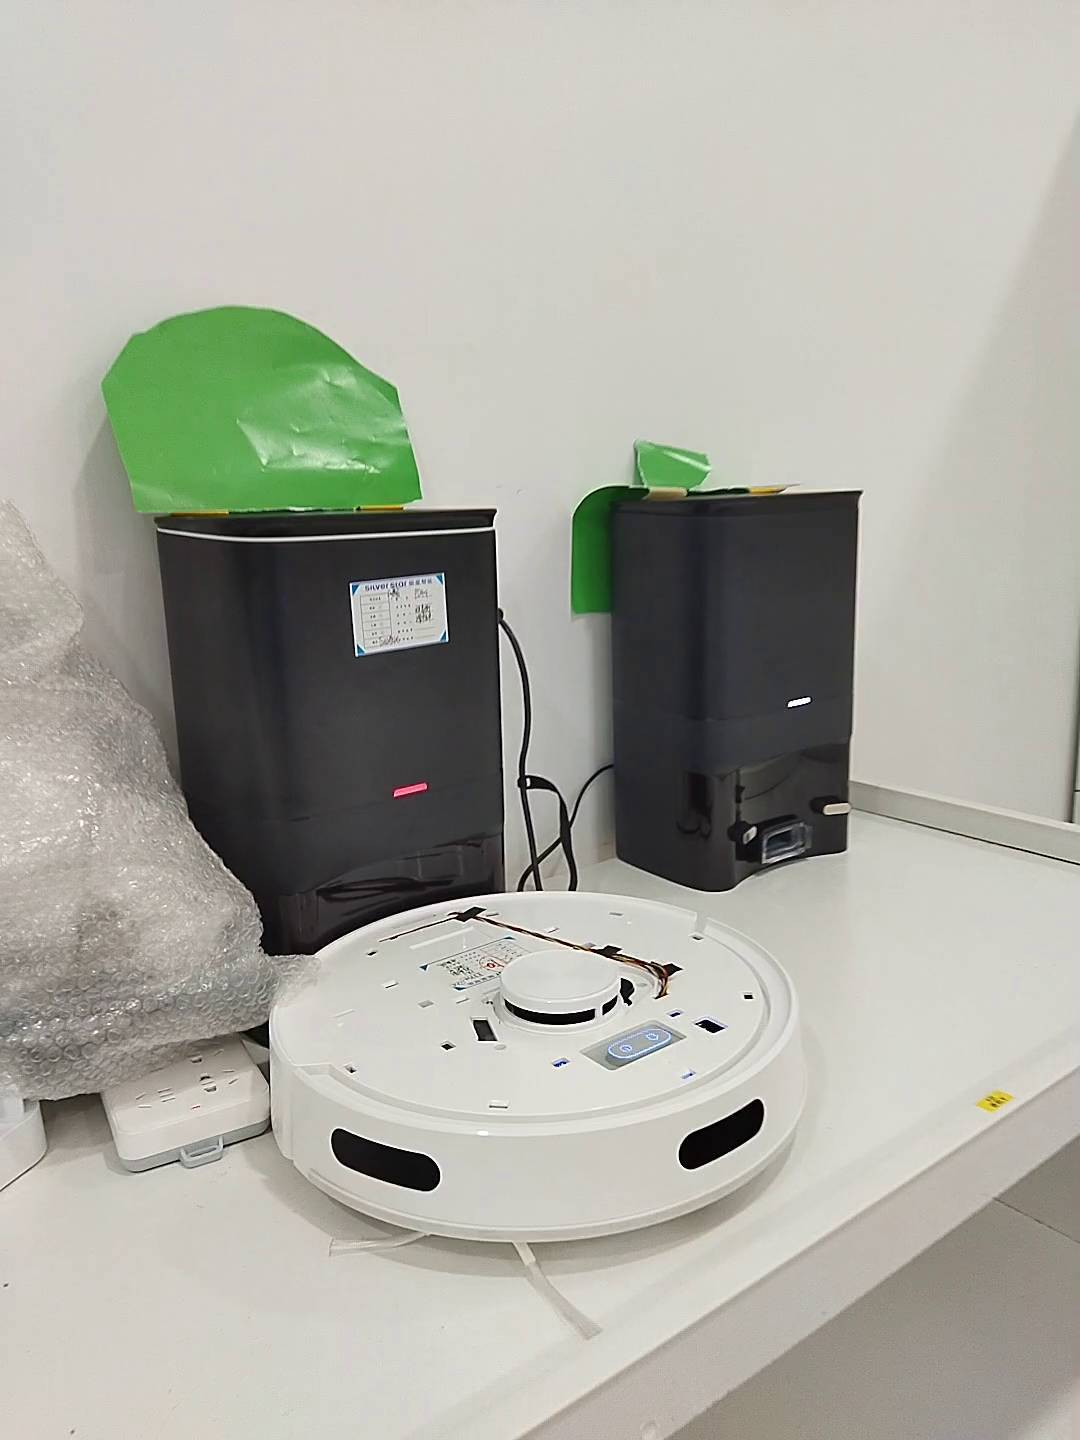dust collecting barrel: (152, 510, 503, 956), (608, 492, 860, 892)
